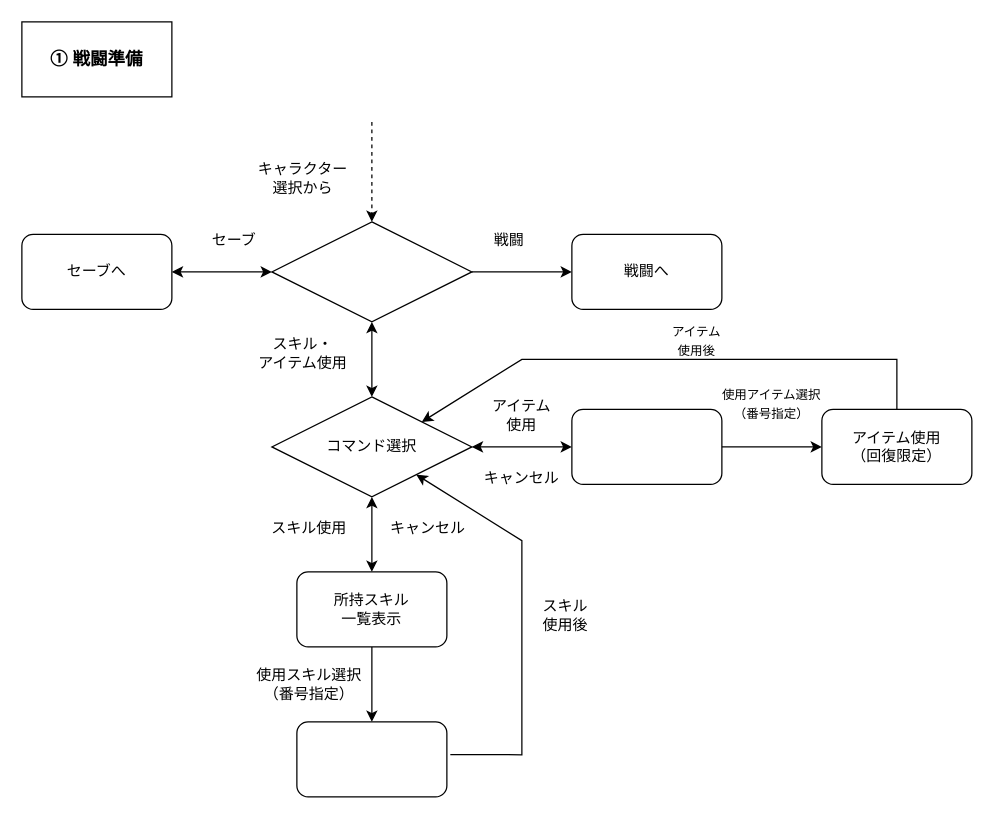
Some shapes in this 994 by 819 pixel diagram are drawn without their labels. The shapes that lost their labels are listed below. From the top down, each one's centre as x and y in pixels, then its label:
[371,271]: 行動選択
[646,446]: 所持アイテム 一覧表示
[371,759]: スキル使用 （回復限定）
